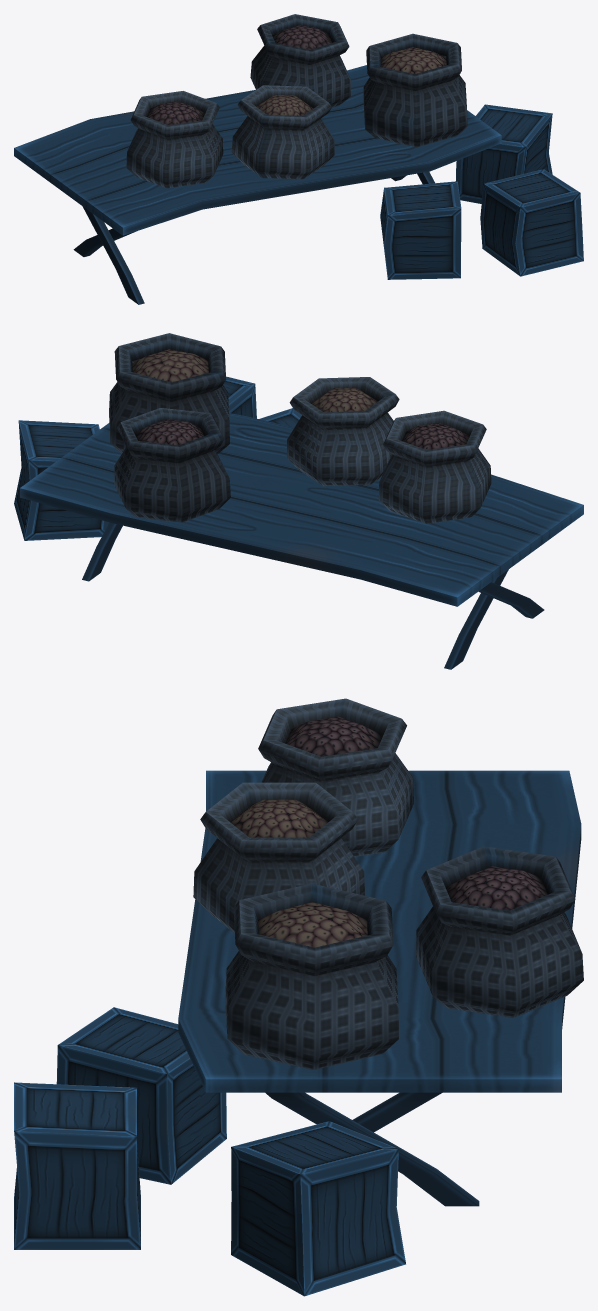
File: Market2.FBX
3 views of the same model, one above another, from view 1: azimuth 30°, elevation 25°; view 2: azimuth 150°, elevation 25°; view 3: azimuth 270°, elevation 25° (orthographic). The views are drawn at different scales.
Visible parts, largest first — view 1: MarketStall3; view 2: MarketStall3; view 3: MarketStall3.
Part boxes in pixels (x1=…): MarketStall3: x1=14, y1=14, x2=583, y2=304; MarketStall3: x1=14, y1=333, x2=583, y2=669; MarketStall3: x1=14, y1=698, x2=583, y2=1296.
Size of the model in its own units: 138 by 46.5 by 88.72.
